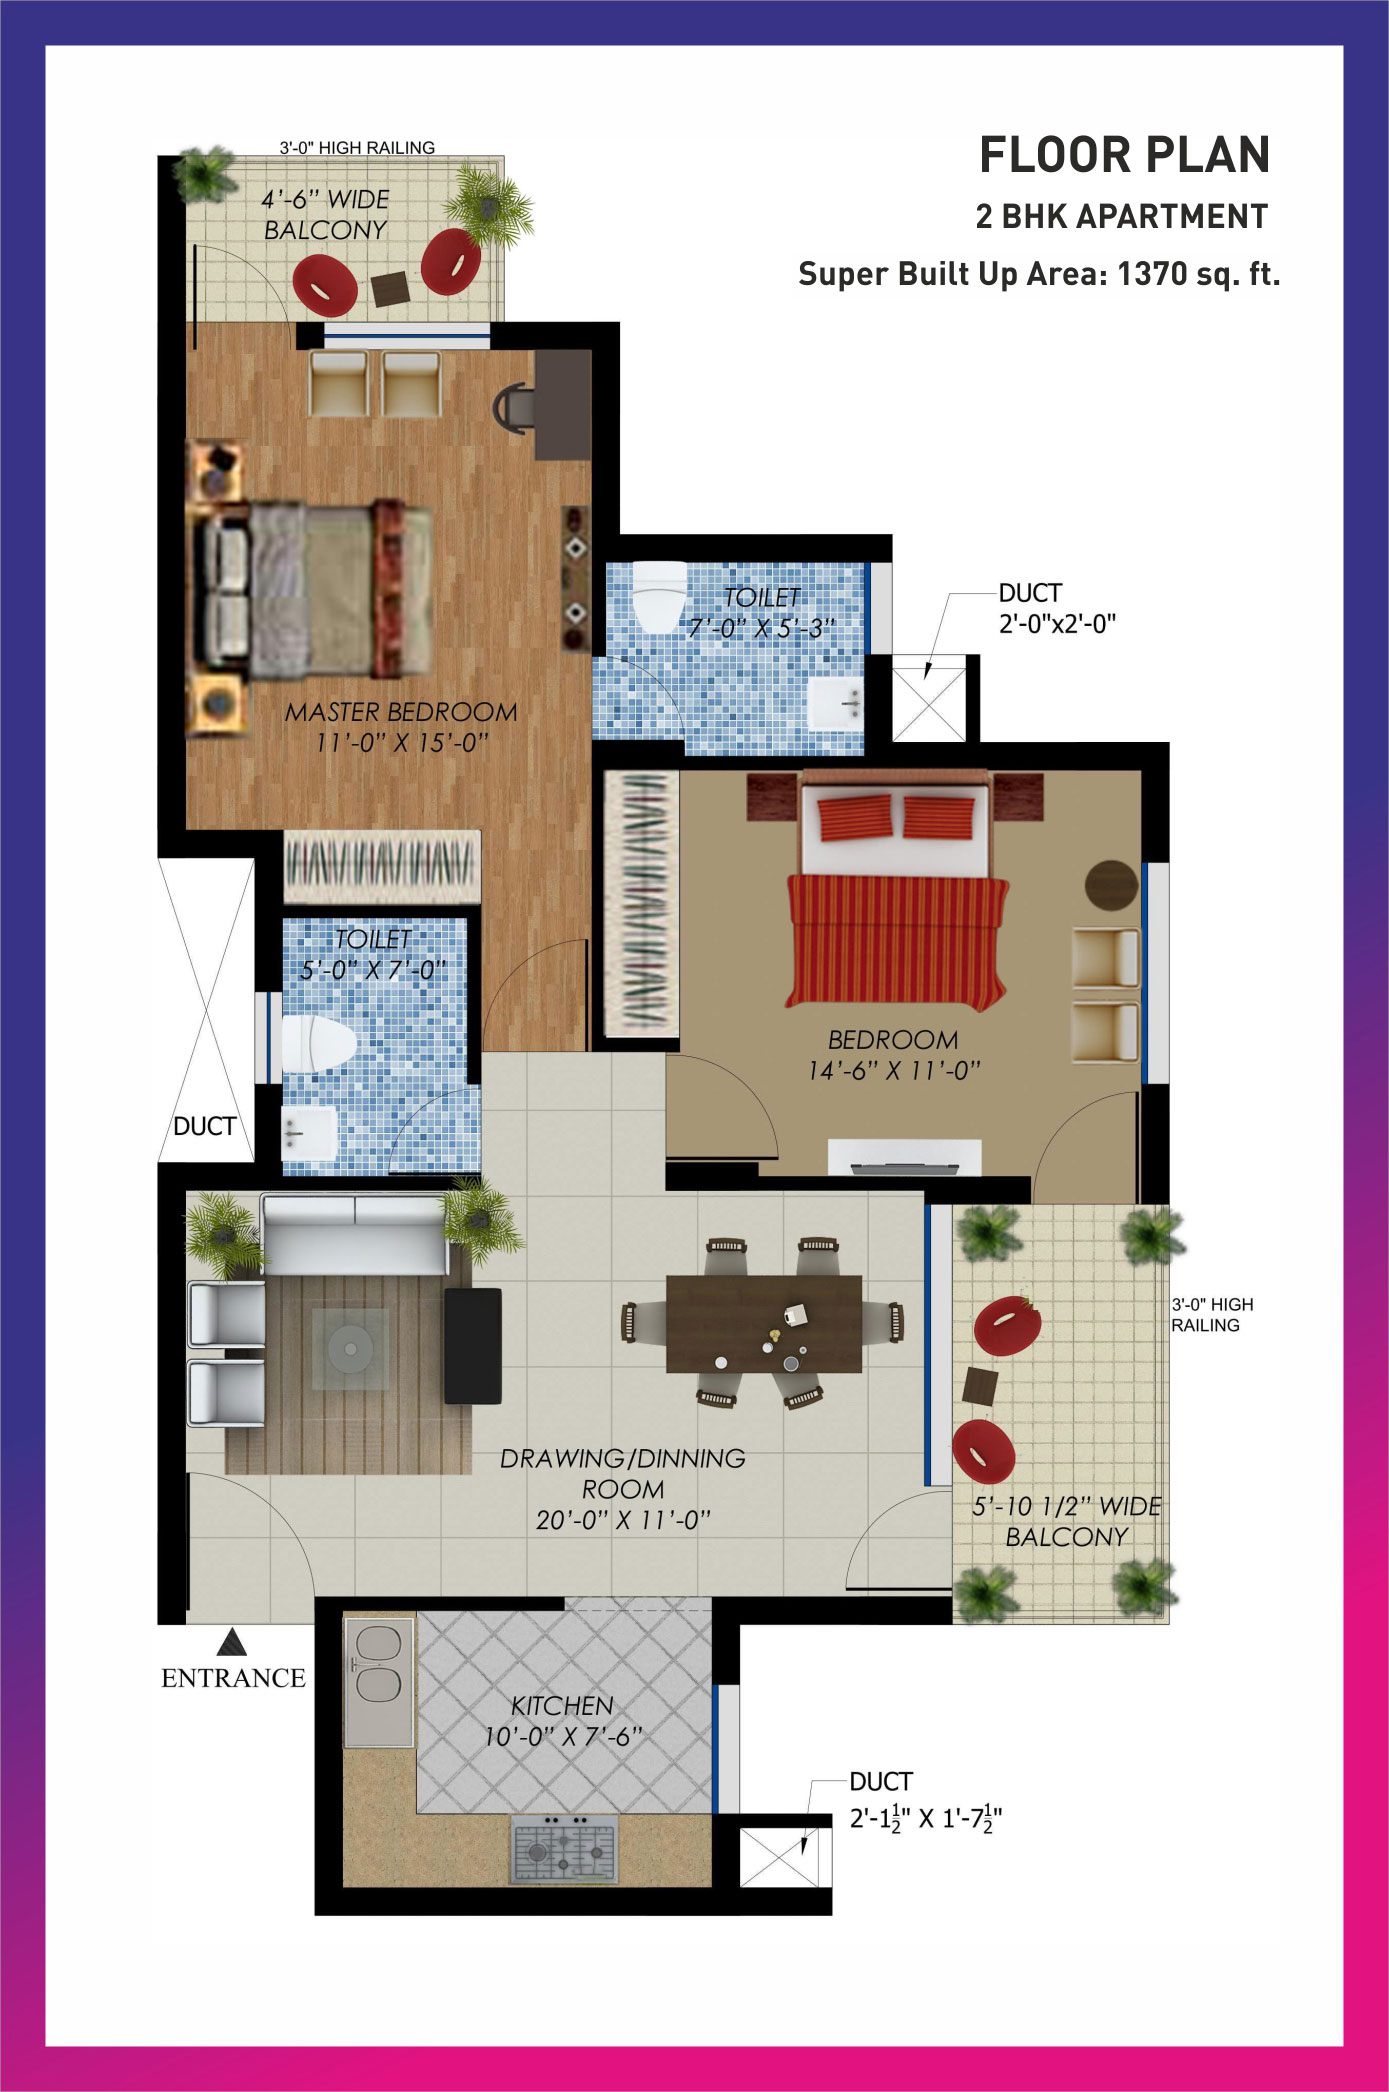door: (184, 1469, 316, 1598), (482, 924, 592, 1031), (684, 1046, 784, 1162), (834, 1489, 944, 1595), (1034, 1083, 1141, 1181), (184, 236, 287, 322)
